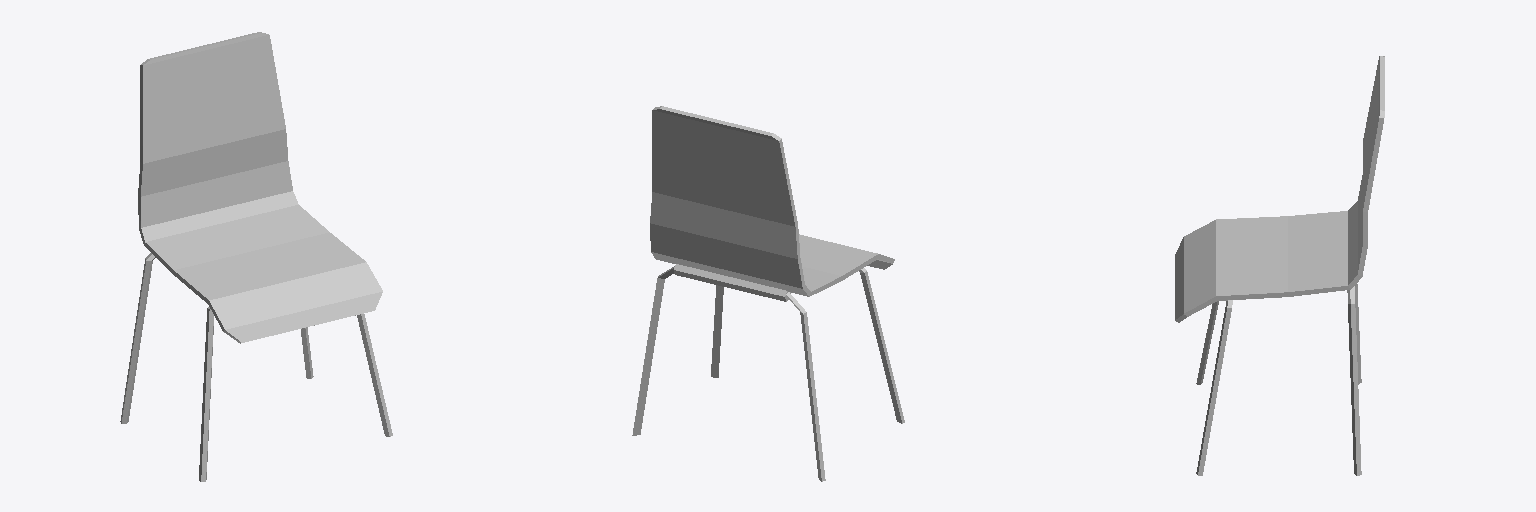
Rendered from chair.obj.
3 views of the same model, side by side, from view 1: azimuth 30°, elevation 25°; view 2: azimuth 150°, elevation 25°; view 3: azimuth 270°, elevation 25° (orthographic).
Visible parts, largest first — view 1: pantry_chair12_Untitled.810; view 2: pantry_chair12_Untitled.810; view 3: pantry_chair12_Untitled.810.
Part boxes in pixels (left/top/right/bottom): pantry_chair12_Untitled.810: left=120, top=32, right=392, bottom=481; pantry_chair12_Untitled.810: left=632, top=106, right=904, bottom=481; pantry_chair12_Untitled.810: left=1175, top=56, right=1384, bottom=475.
Bounding box in the file's own units: 0.2046 × 0.3517 × 0.194.